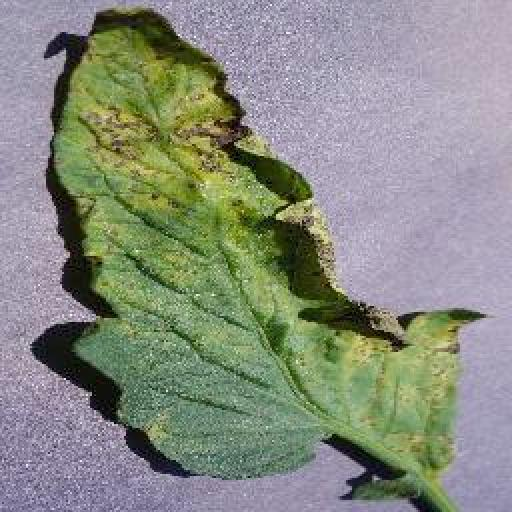disease_tomato: (55, 9, 488, 479)
